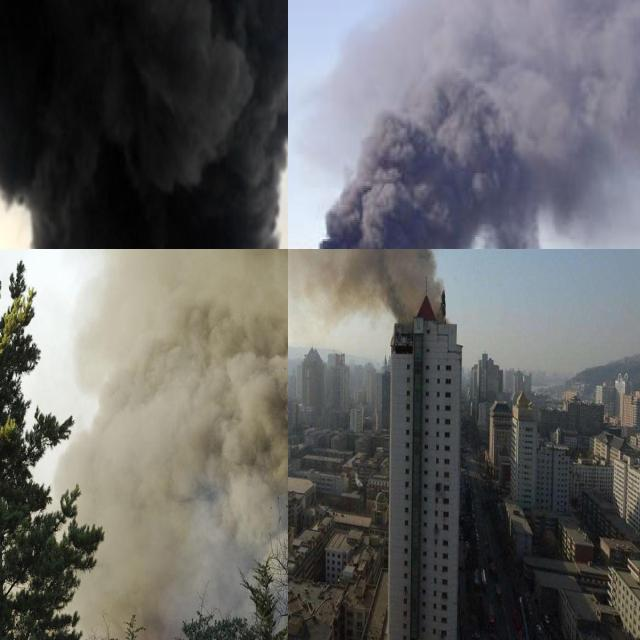smoke: (15, 249, 288, 640), (288, 0, 640, 249), (0, 0, 288, 249)
